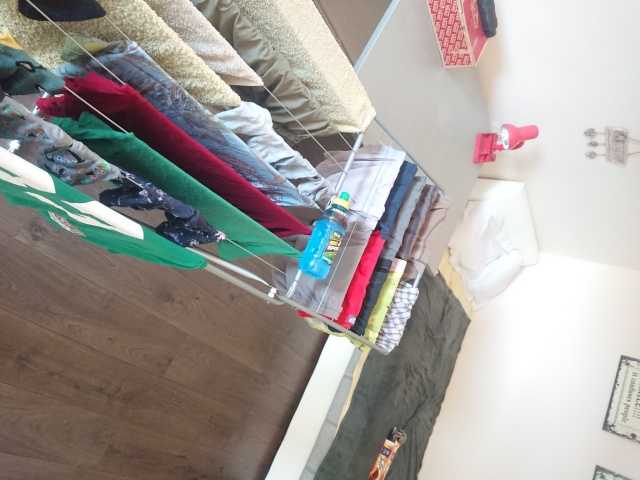Vindi Iso Sport Forest Strawberries 500mL: (295, 190, 350, 280)
